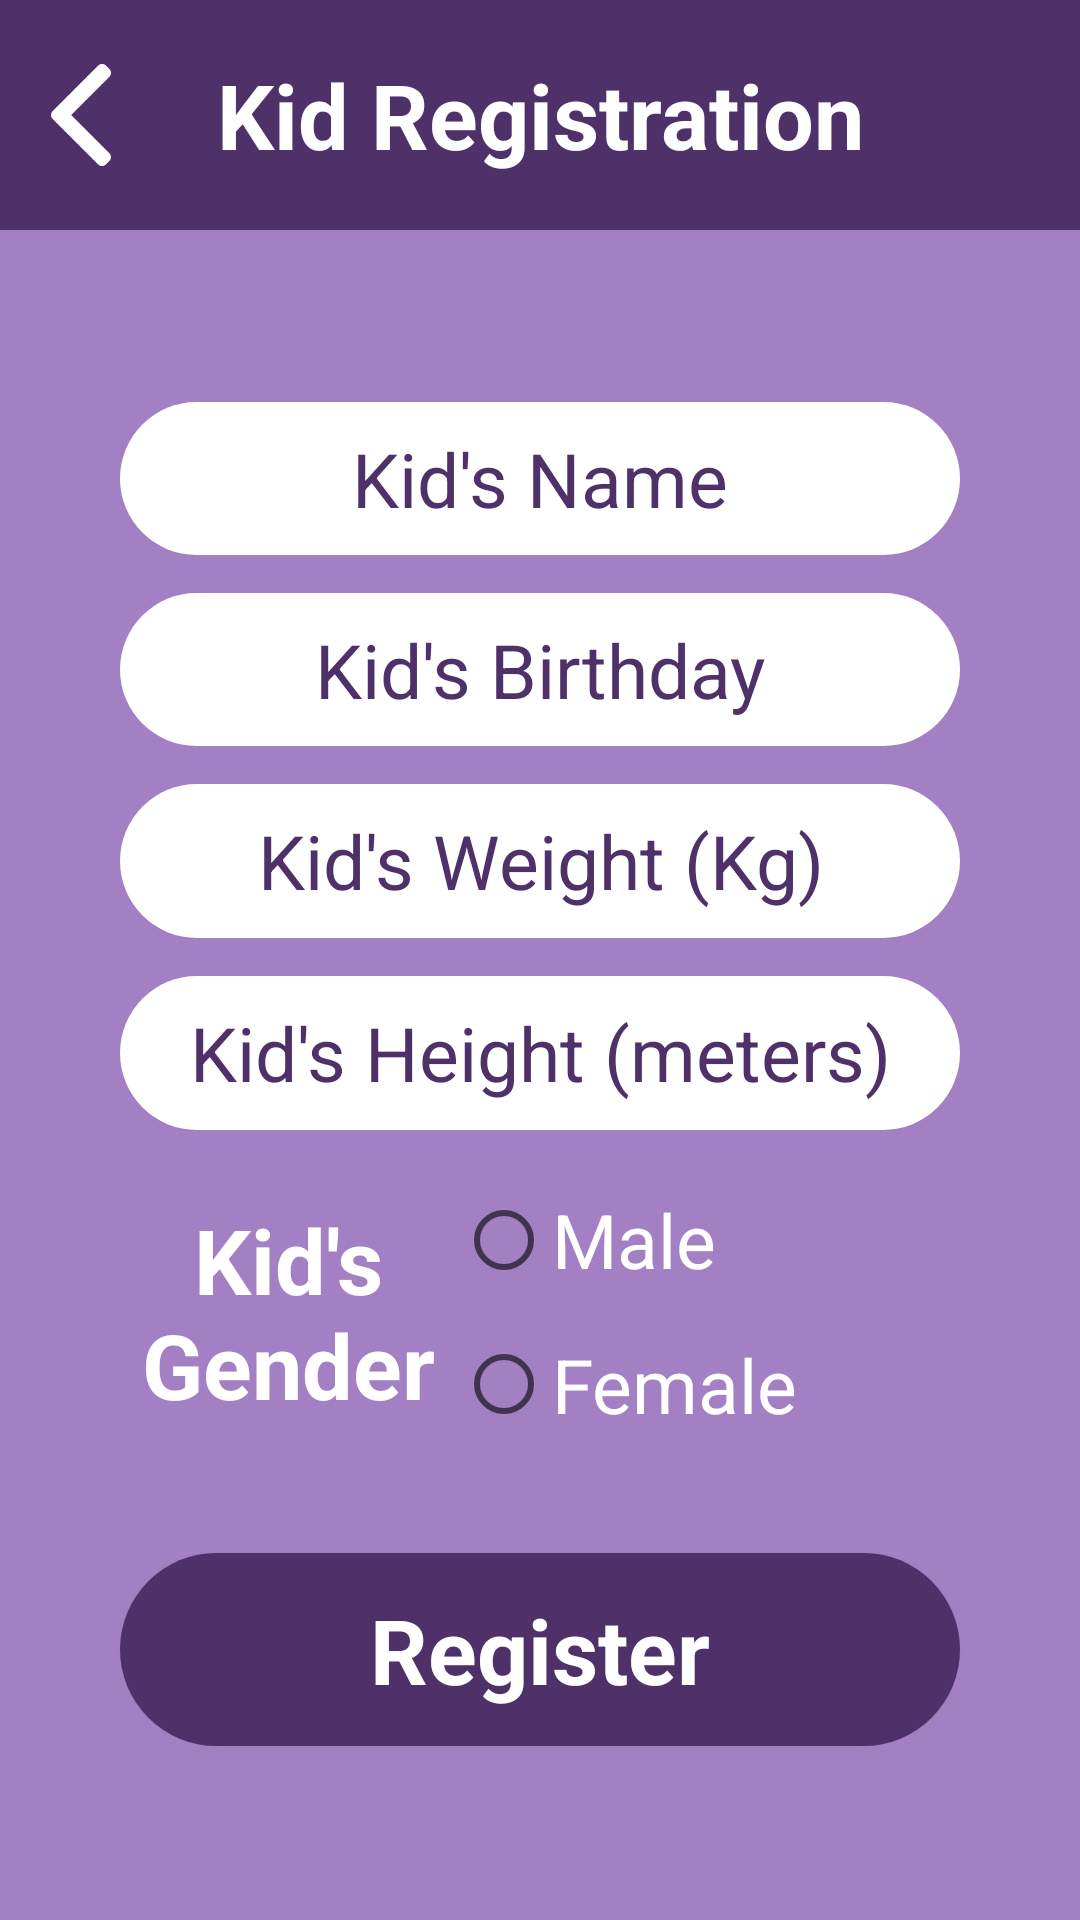

Screen size 1080x1920. Icon name, then its center in pixels as point (x, y):
activity back arrow: point (81, 115)
